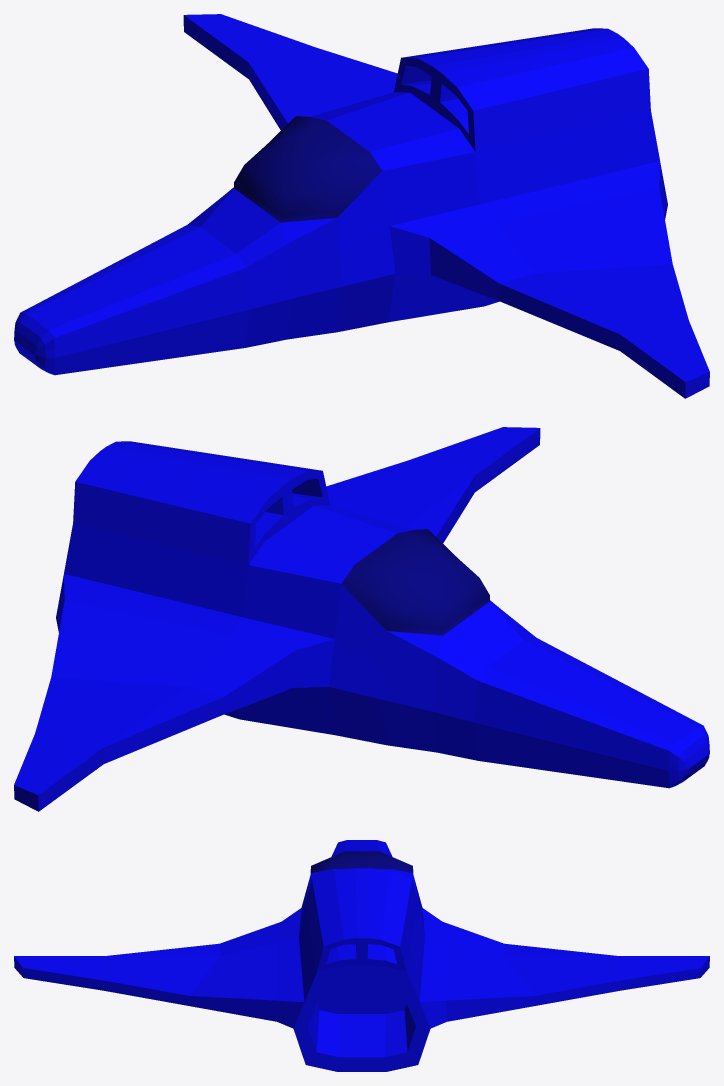
The model's file is tank_blue_4.glb.
3 renders of one model, top to bottom at view 1: azimuth 30°, elevation 25°; view 2: azimuth 150°, elevation 25°; view 3: azimuth 270°, elevation 25°, orthographic. The views are drawn at different scales.
Parts seen in each view (by area): view 1: Spaceship4_Cube.001_primitive0, Spaceship4_Cube.001_primitive1; view 2: Spaceship4_Cube.001_primitive0, Spaceship4_Cube.001_primitive1; view 3: Spaceship4_Cube.001_primitive0, Spaceship4_Cube.001_primitive1.
Part boxes in pixels (box(x1,y1,x2,y2)): Spaceship4_Cube.001_primitive0: box(14, 14, 709, 398); Spaceship4_Cube.001_primitive1: box(234, 116, 382, 222); Spaceship4_Cube.001_primitive0: box(14, 427, 709, 811); Spaceship4_Cube.001_primitive1: box(341, 529, 489, 635); Spaceship4_Cube.001_primitive0: box(14, 840, 709, 1071); Spaceship4_Cube.001_primitive1: box(310, 851, 413, 873).
Bounding box in the file's own units: 0.6867 × 0.2324 × 1.
